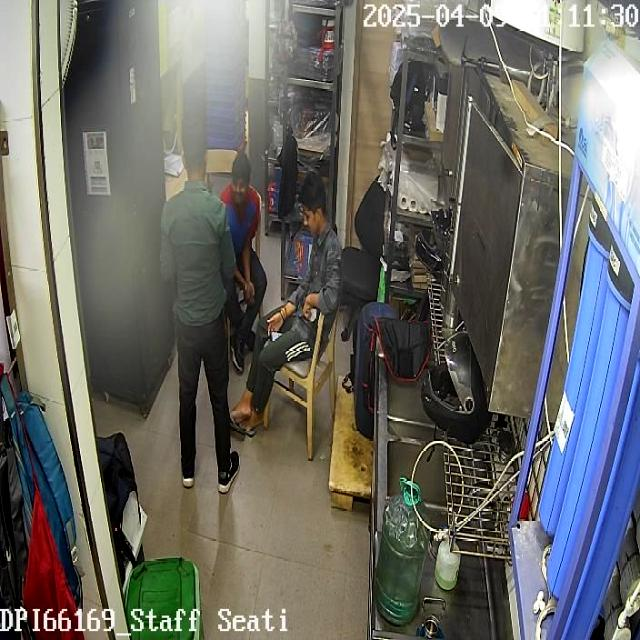no_helmet: (298, 172, 328, 234), (180, 119, 207, 181), (231, 151, 249, 204)
